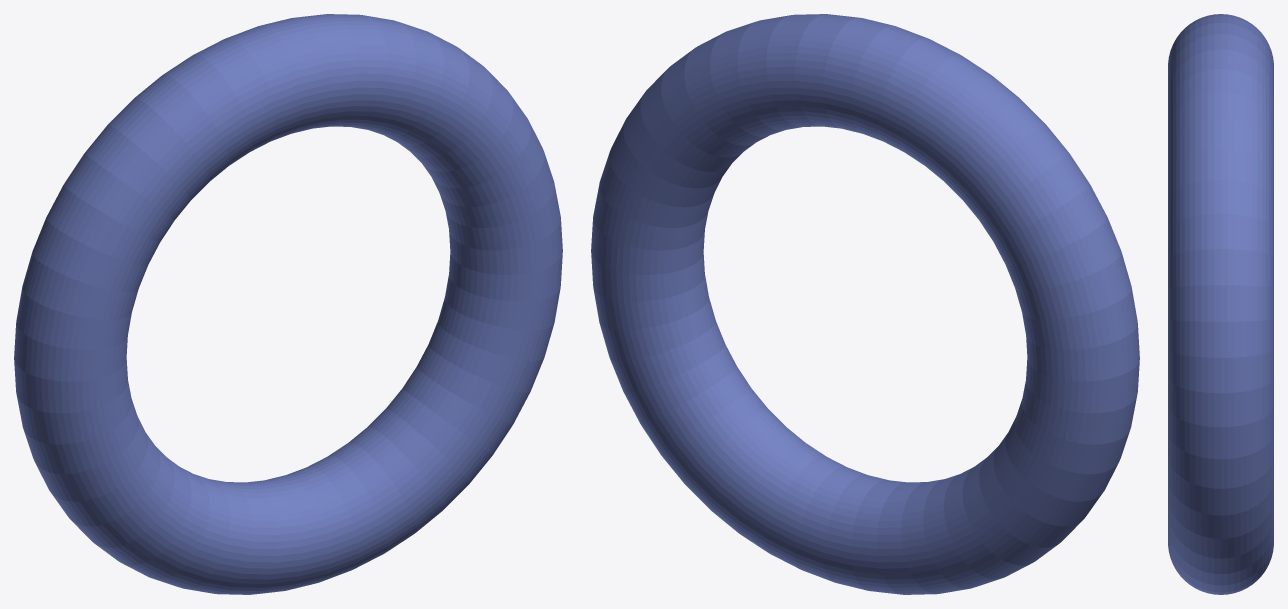
3 views of the same model, side by side, from view 1: azimuth 30°, elevation 25°; view 2: azimuth 150°, elevation 25°; view 3: azimuth 270°, elevation 25° (orthographic). The views are drawn at different scales.
Parts seen in each view (by area): view 1: world; view 2: world; view 3: world.
Boxes of the visible parts, box(x1,y1,x2,y2) form: world: box(14, 14, 562, 594); world: box(591, 14, 1139, 594); world: box(1168, 14, 1273, 594).
Size of the model in its own units: 13.87 by 13.84 by 2.53.
